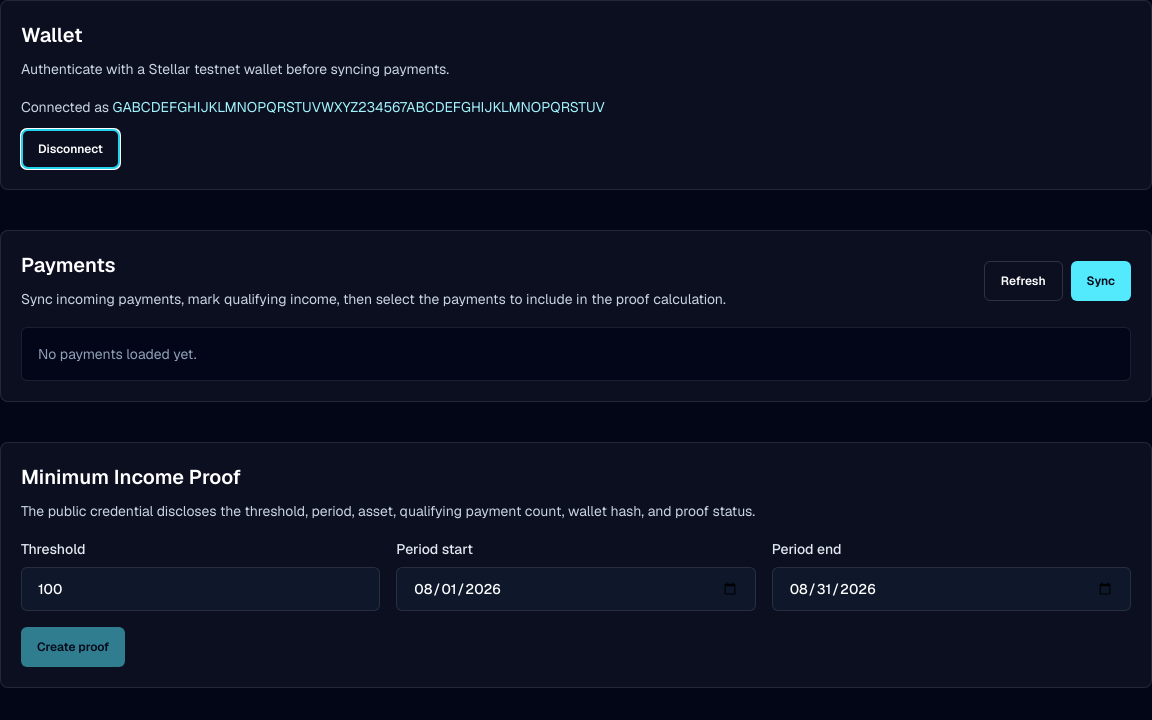
Test case: CreateProofFlow session lifecycle › invalidates local storage on logout and restores focus to Connect Freighter
What coordinates should you click on to do the following:
click the button "Disconnect"
I would click on:
 (70, 149)
Its box is [21,129,120,169].
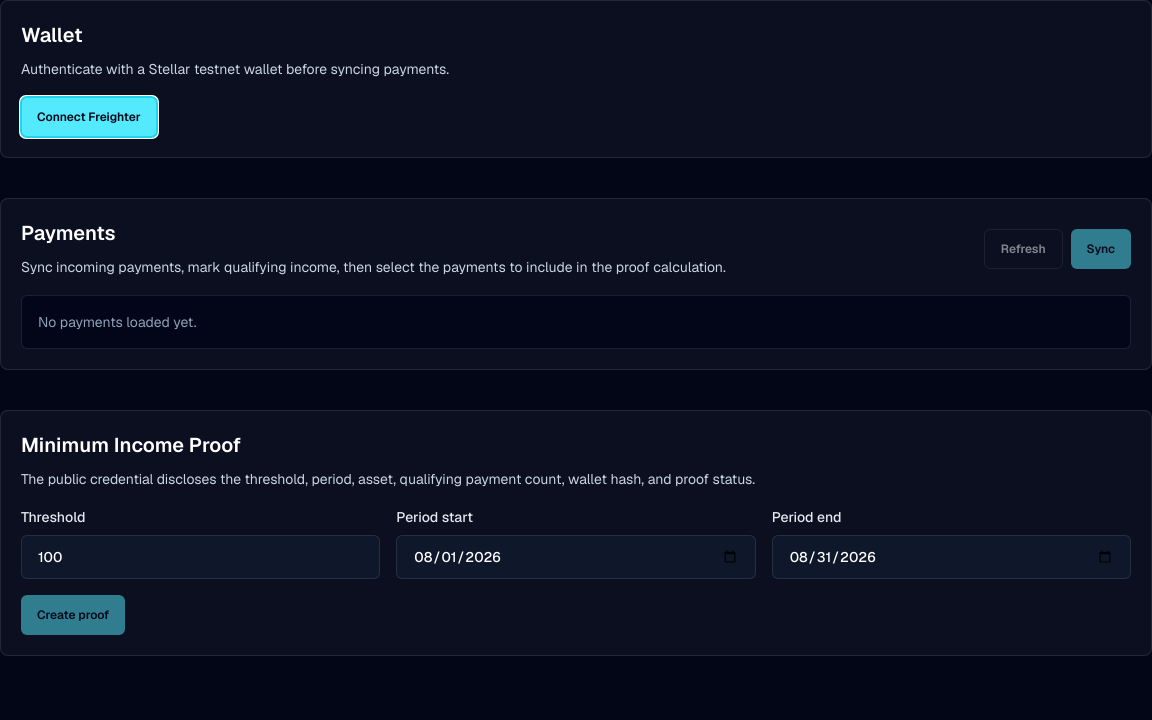
Check: the text "GABCDEFGHIJKLMNOPQRSTUVWXYZ234567ABCDEFGHIJKLMNOPQRSTUV" is gone
